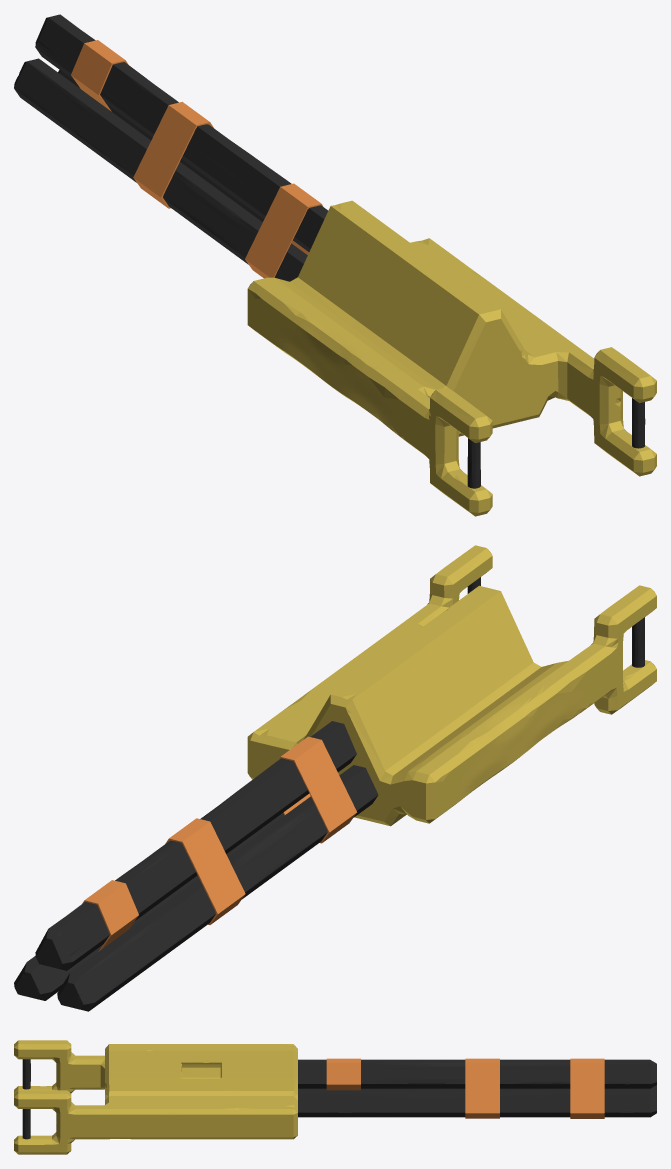
Rendered from New_Turret_Complete_withShading.fbx.
3 renders of one model, top to bottom at view 1: azimuth 30°, elevation 25°; view 2: azimuth 150°, elevation 25°; view 3: azimuth 270°, elevation 25°, orthographic. The views are drawn at different scales.
Parts seen in each view (by area): view 1: Gun_Base, Barrel_Right, Barrel_top, Duct_Tape_2, Duct_Tape_3, Duct_Tape_1; view 2: Gun_Base, Barrel_Right, Barrel_top, Duct_Tape_3, Duct_Tape_2, Barrel_Left, Duct_Tape_1; view 3: Gun_Base, Barrel_Left, Barrel_top, Duct_Tape_2, Duct_Tape_1, Duct_Tape_3, Barrel_Right, Handle_Left, Handle_Right.
Boxes of the visible parts, x1=… form: Gun_Base: x1=247, y1=200, x2=656, y2=516; Barrel_Right: x1=14, y1=58, x2=307, y2=281; Barrel_top: x1=35, y1=14, x2=328, y2=251; Duct_Tape_2: x1=133, y1=101, x2=213, y2=208; Duct_Tape_3: x1=245, y1=183, x2=322, y2=278; Duct_Tape_1: x1=71, y1=40, x2=128, y2=111; Gun_Base: x1=247, y1=545, x2=656, y2=826; Barrel_Right: x1=57, y1=765, x2=378, y2=1011; Barrel_top: x1=35, y1=721, x2=356, y2=970; Duct_Tape_3: x1=279, y1=736, x2=357, y2=843; Duct_Tape_2: x1=165, y1=818, x2=245, y2=924; Barrel_Left: x1=14, y1=813, x2=284, y2=1000; Duct_Tape_1: x1=82, y1=880, x2=138, y2=951; Gun_Base: x1=14, y1=1040, x2=297, y2=1154; Barrel_Left: x1=298, y1=1090, x2=656, y2=1117; Barrel_top: x1=298, y1=1059, x2=656, y2=1088; Duct_Tape_2: x1=465, y1=1058, x2=499, y2=1118; Duct_Tape_1: x1=570, y1=1058, x2=604, y2=1118; Duct_Tape_3: x1=326, y1=1058, x2=360, y2=1090; Barrel_Right: x1=298, y1=1085, x2=656, y2=1094; Handle_Left: x1=22, y1=1059, x2=30, y2=1089; Handle_Right: x1=22, y1=1109, x2=30, y2=1139.
Bounding box in the file's own units: 391 × 258 × 1867.
